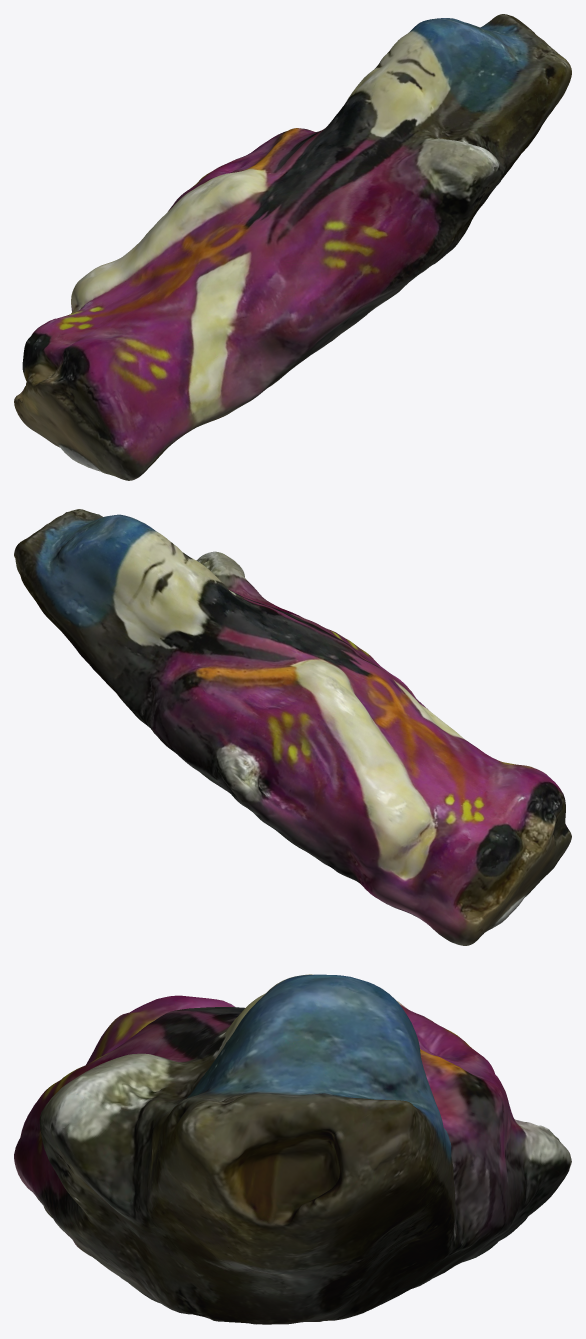
3 views of the same model, one above another, from view 1: azimuth 30°, elevation 25°; view 2: azimuth 150°, elevation 25°; view 3: azimuth 270°, elevation 25° (orthographic). The views are drawn at different scales.
Size of the model in its own units: 0.6717 by 0.4091 by 0.3235.
Materials: 1 (1 with a texture image).
